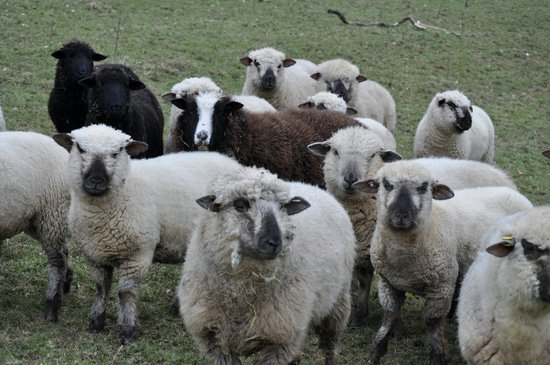sheep: (199, 166, 348, 365), (67, 126, 201, 330), (369, 162, 499, 334), (57, 33, 188, 166), (283, 120, 385, 236), (166, 53, 258, 165), (1, 111, 70, 258), (472, 218, 550, 339), (316, 49, 403, 146), (408, 76, 490, 176), (241, 31, 311, 103)
